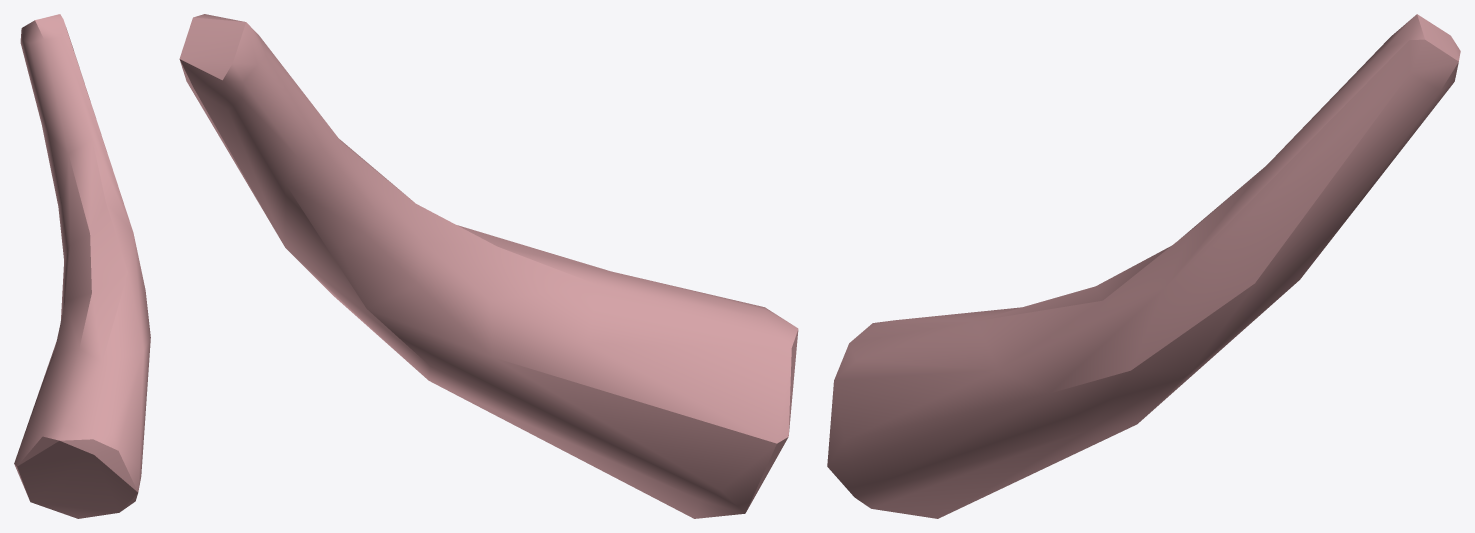
File: fma68223_fj2462.glb
3 views of the same model, side by side, from view 1: azimuth 30°, elevation 25°; view 2: azimuth 150°, elevation 25°; view 3: azimuth 270°, elevation 25° (orthographic). The views are drawn at different scales.
Visible parts, largest first — view 1: FMA68223_FJ2462; view 2: FMA68223_FJ2462; view 3: FMA68223_FJ2462.
Boxes of the visible parts, x1,y1,x2,y2 form: FMA68223_FJ2462: [14, 14, 150, 518]; FMA68223_FJ2462: [179, 14, 798, 518]; FMA68223_FJ2462: [827, 14, 1460, 518].
Size of the model in its own units: 0.00698 by 0.0123 by 0.012.
